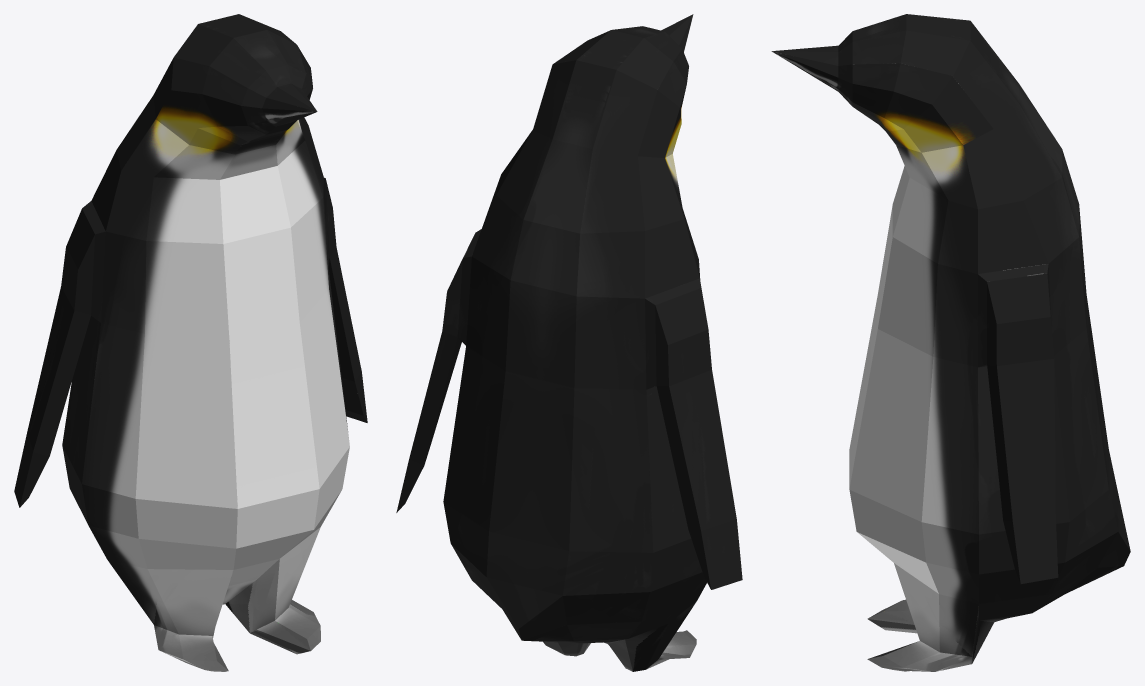
The model's file is penguin.FBX.
The picture shows the model from 3 angles, left to right: view 1: azimuth 30°, elevation 25°; view 2: azimuth 150°, elevation 25°; view 3: azimuth 270°, elevation 25°; orthographic projection. The views are drawn at different scales.
Parts seen in each view (by area): view 1: Capsule001; view 2: Capsule001; view 3: Capsule001.
Boxes of the visible parts, x1=… form: Capsule001: x1=14, y1=14, x2=367, y2=671; Capsule001: x1=396, y1=14, x2=742, y2=671; Capsule001: x1=771, y1=14, x2=1130, y2=671.
Bounding box in the file's own units: 220 × 375 × 195.
1 material, 1 textured.
